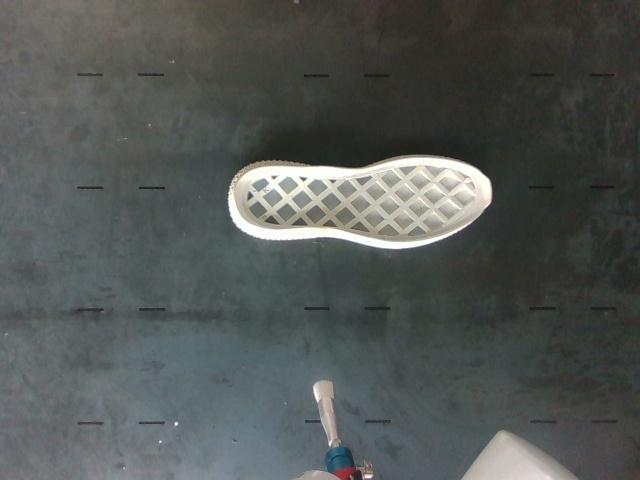shoes: (234, 158, 491, 242)
